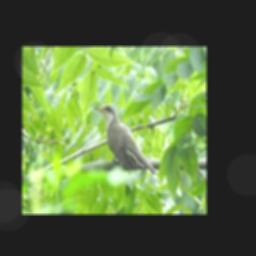Cuckoo: (94, 104, 156, 173)
